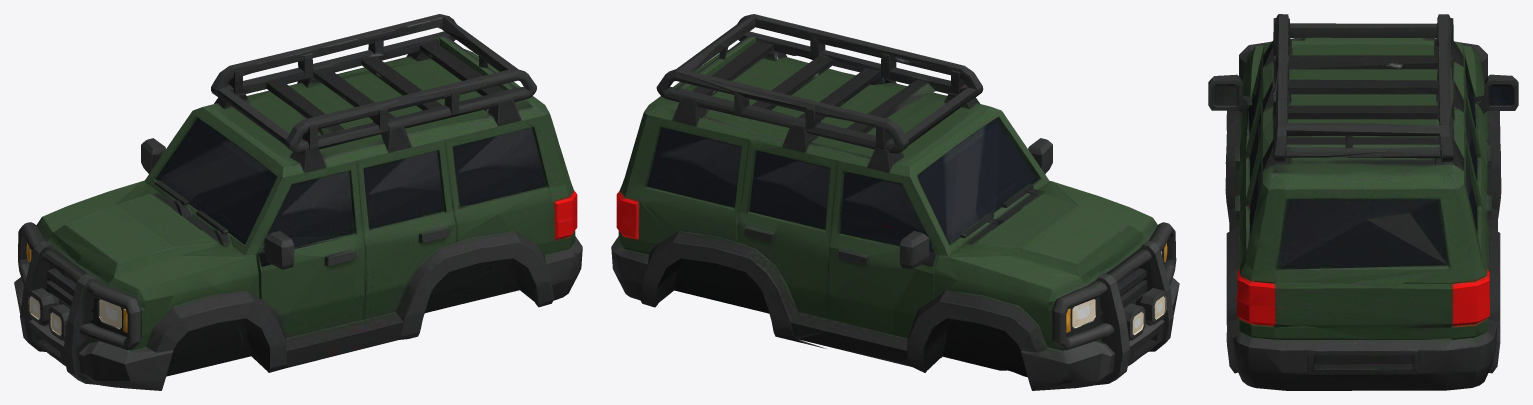
File: suv.glb
The picture shows the model from 3 angles, left to right: view 1: azimuth 30°, elevation 25°; view 2: azimuth 150°, elevation 25°; view 3: azimuth 270°, elevation 25°; orthographic projection. The views are drawn at different scales.
Bounding box in the file's own units: 1.9 × 0.8309 × 0.9529.
Materials: 1 (1 with a texture image).
